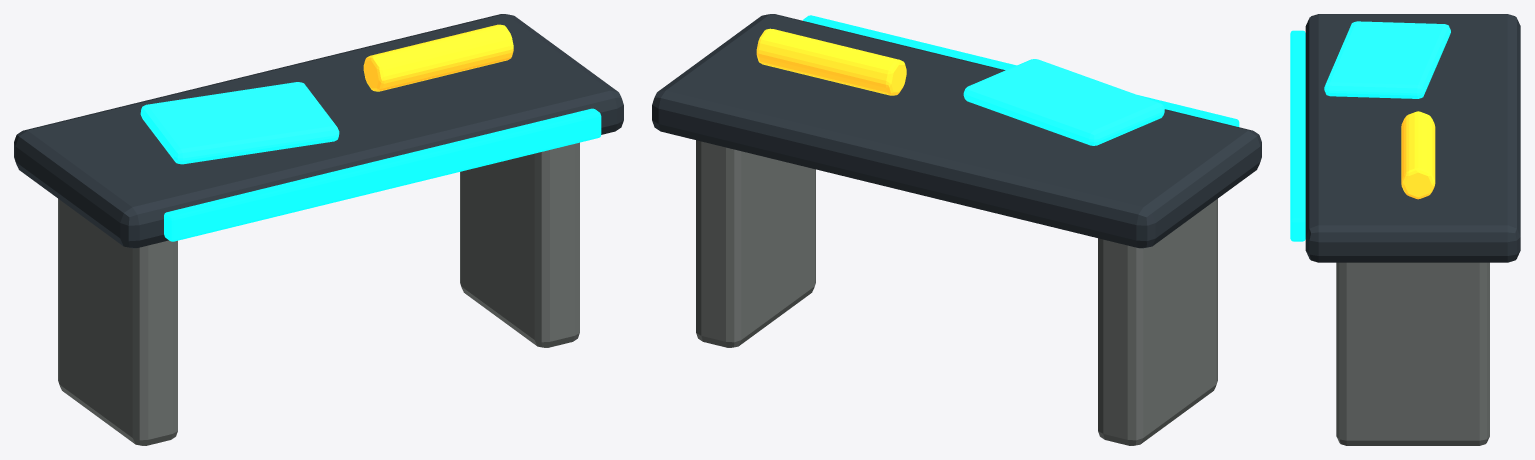
The model's file is Archive-Workbench.glb.
3 views of the same model, side by side, from view 1: azimuth 30°, elevation 25°; view 2: azimuth 150°, elevation 25°; view 3: azimuth 270°, elevation 25° (orthographic). The views are drawn at different scales.
Parts seen in each view (by area): view 1: Workbench_Top, Workbench_Leg, Workbench_Leg.001, Workbench_Edge, Workbench_DataSlate, Workbench_Tool; view 2: Workbench_Top, Workbench_Leg, Workbench_Leg.001, Workbench_DataSlate, Workbench_Tool, Workbench_Edge; view 3: Workbench_Top, Workbench_Leg.001, Workbench_DataSlate, Workbench_Edge, Workbench_Tool.
Boxes of the visible parts, left/top/right/bottom form: Workbench_Top: left=14, top=14, right=623, bottom=248; Workbench_Leg: left=58, top=199, right=177, bottom=445; Workbench_Leg.001: left=460, top=142, right=579, bottom=347; Workbench_Edge: left=164, top=108, right=601, bottom=241; Workbench_DataSlate: left=140, top=82, right=339, bottom=164; Workbench_Tool: left=363, top=24, right=513, bottom=91; Workbench_Top: left=652, top=14, right=1261, bottom=248; Workbench_Leg: left=1098, top=199, right=1217, bottom=445; Workbench_Leg.001: left=696, top=140, right=815, bottom=347; Workbench_DataSlate: left=963, top=59, right=1164, bottom=145; Workbench_Tool: left=756, top=28, right=906, bottom=95; Workbench_Edge: left=803, top=15, right=1239, bottom=126; Workbench_Top: left=1305, top=14, right=1520, bottom=262; Workbench_Leg.001: left=1336, top=262, right=1489, bottom=445; Workbench_DataSlate: left=1324, top=21, right=1450, bottom=98; Workbench_Edge: left=1290, top=30, right=1305, bottom=241; Workbench_Tool: left=1401, top=111, right=1435, bottom=199.
Size of the model in its own units: 2.05 by 1.15 by 0.9.
